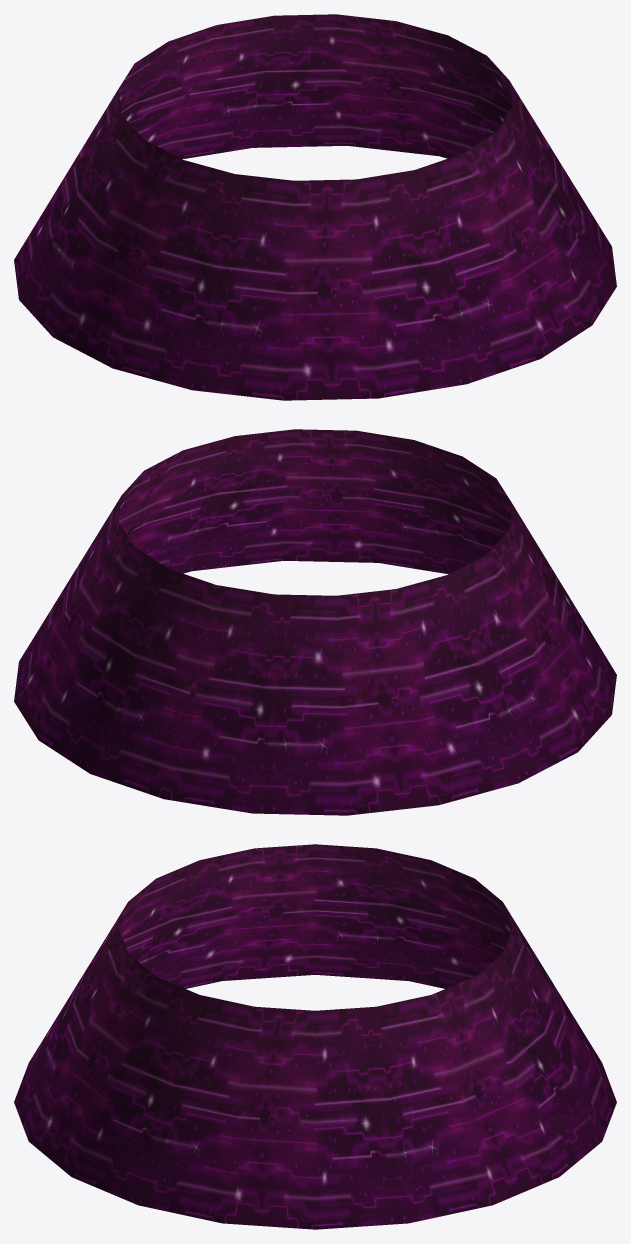
File: background01.fbx
3 renders of one model, top to bottom at view 1: azimuth 30°, elevation 25°; view 2: azimuth 150°, elevation 25°; view 3: azimuth 270°, elevation 25°, orthographic.
Parts seen in each view (by area): view 1: MountainBG; view 2: MountainBG; view 3: MountainBG.
Part boxes in pixels (left/top/right/bottom): MountainBG: left=14, top=14, right=616, bottom=400; MountainBG: left=14, top=429, right=616, bottom=815; MountainBG: left=14, top=844, right=616, bottom=1229.
Size of the model in its own units: 45604 by 14580 by 45604.
